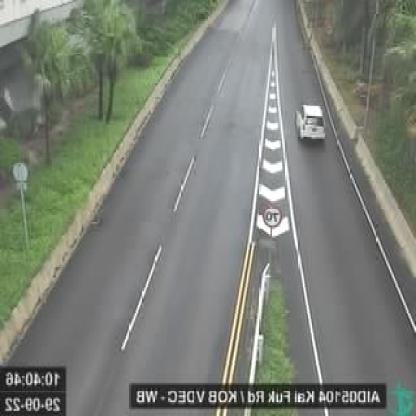Car: (294, 100, 327, 144)
